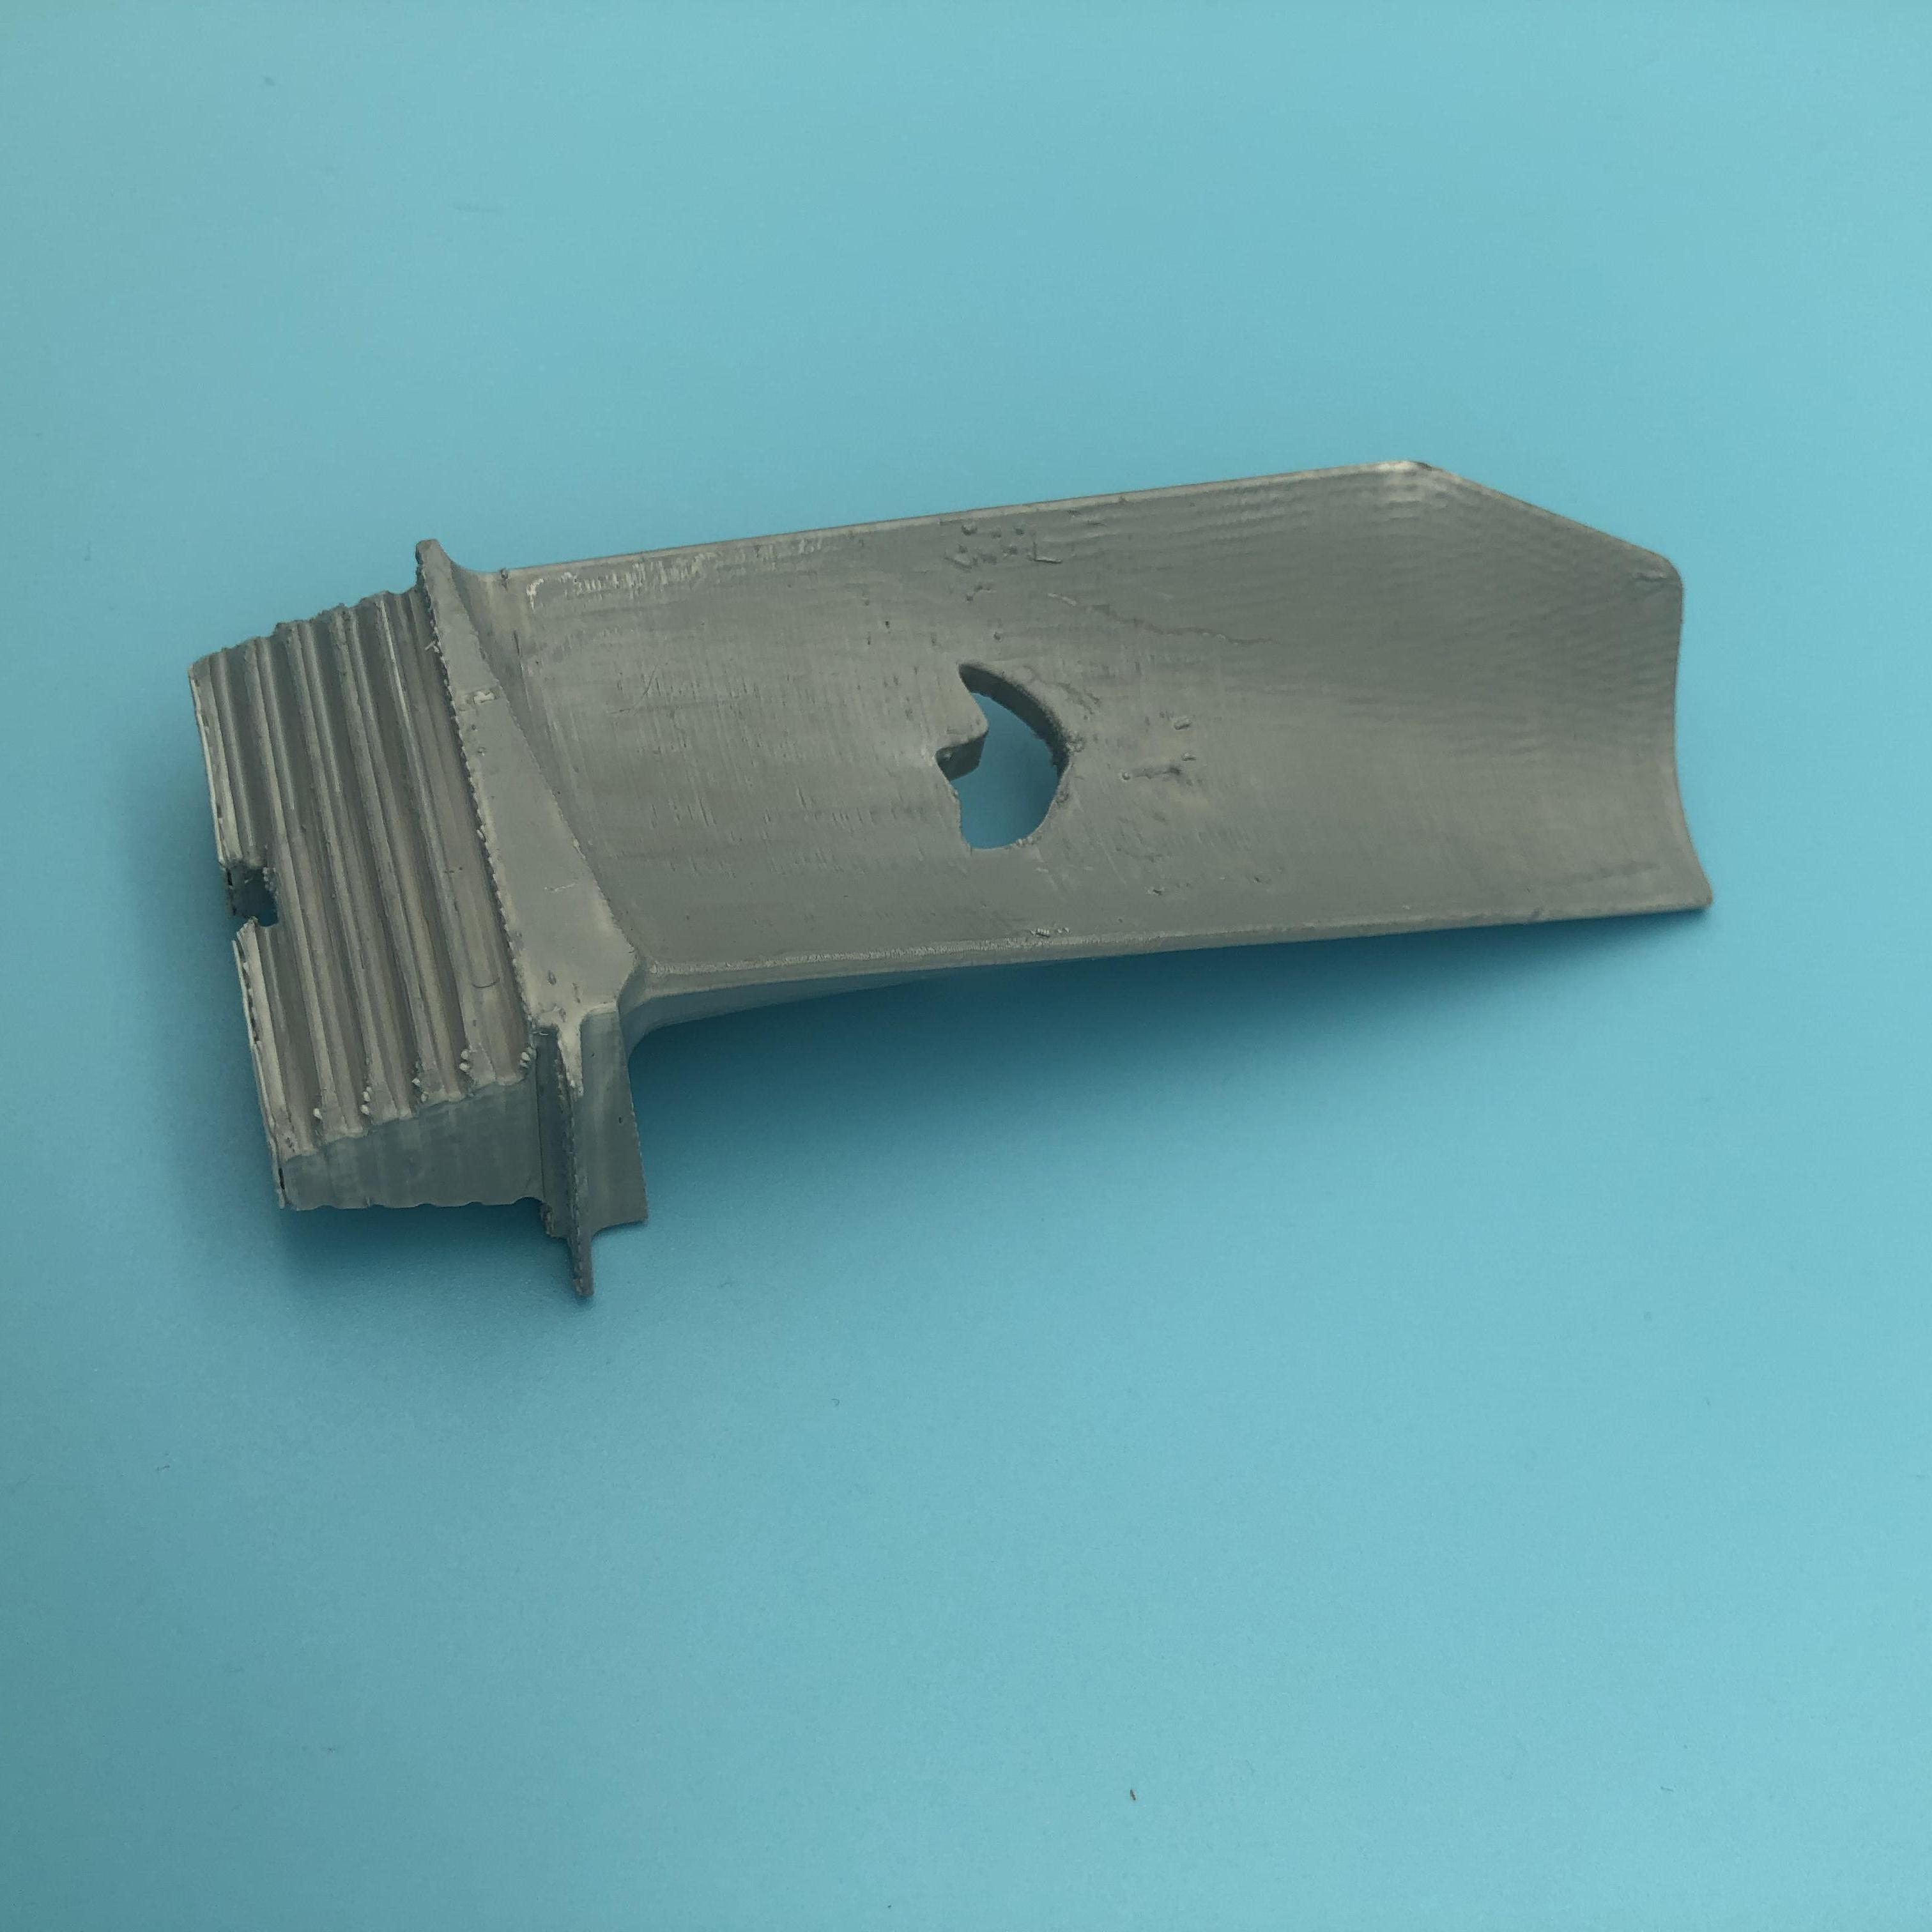breakdown: (918, 649, 1108, 867)
